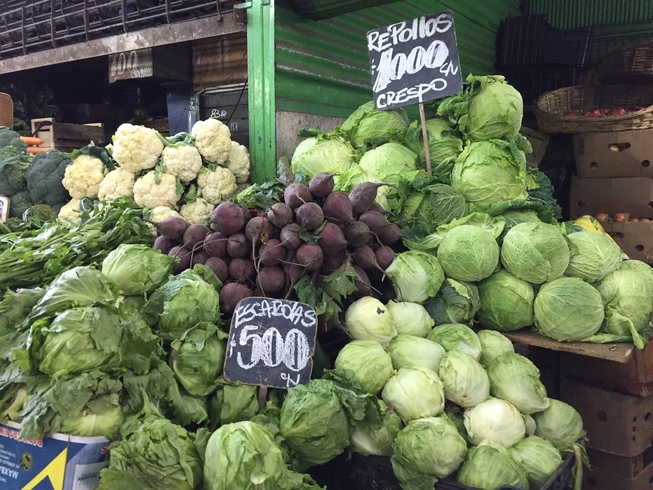precio: (217, 285, 326, 398), (363, 17, 467, 112)
